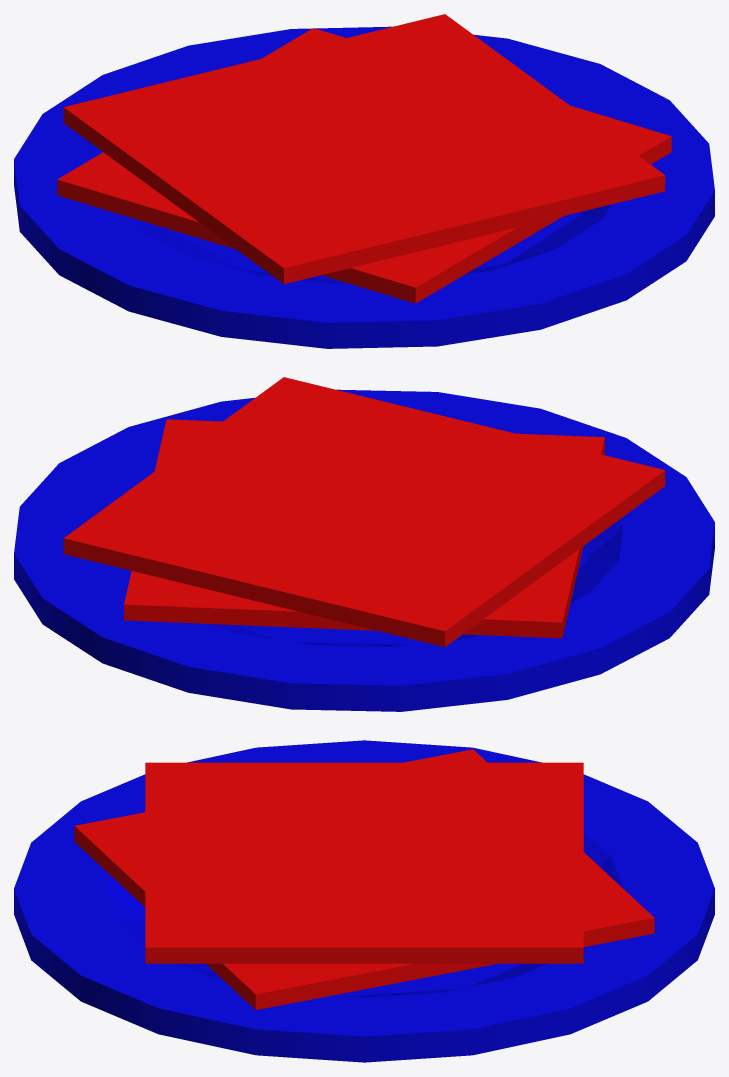
File: nori_low.fbx
The picture shows the model from 3 angles, top to bottom: view 1: azimuth 30°, elevation 25°; view 2: azimuth 150°, elevation 25°; view 3: azimuth 270°, elevation 25°; orthographic projection.
Visible parts, largest first — view 1: polySurface1; view 2: polySurface1; view 3: polySurface1.
Part boxes in pixels (box(x1,y1,x2,y2)): polySurface1: box(14, 14, 714, 348); polySurface1: box(14, 377, 714, 711); polySurface1: box(14, 740, 714, 1062).
Bounding box in the file's own units: 0.48 × 0.0448 × 0.48.
